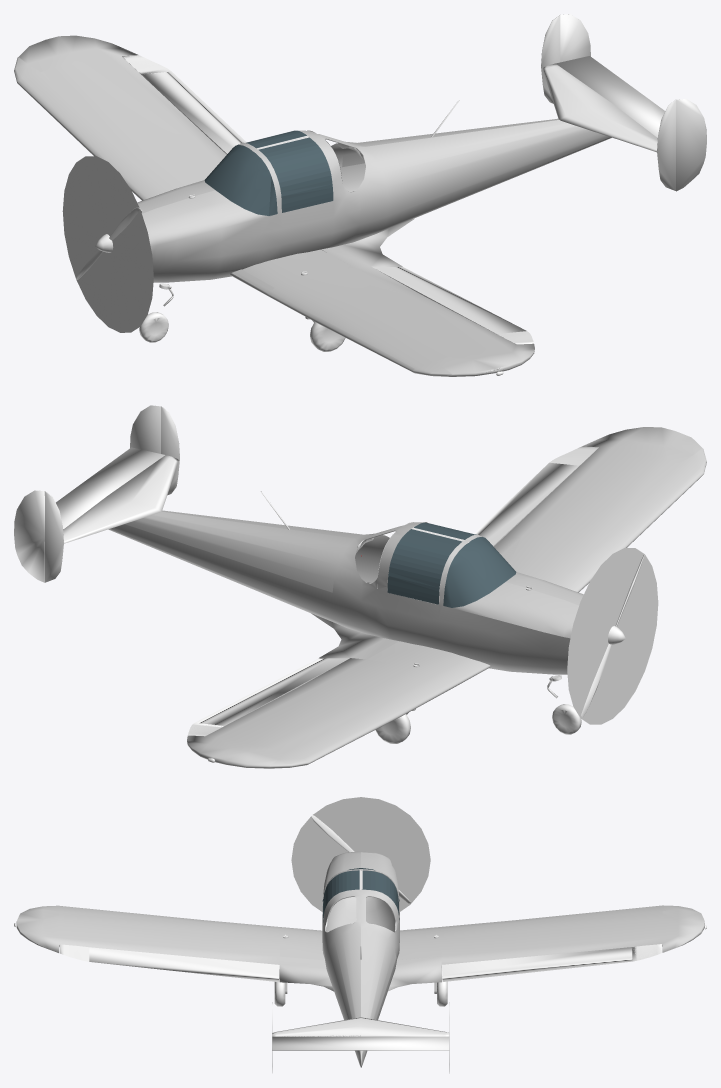
Rendered from ercoupe_ercoupe.glb.
3 views of the same model, one above another, from view 1: azimuth 30°, elevation 25°; view 2: azimuth 150°, elevation 25°; view 3: azimuth 270°, elevation 25° (orthographic). The views are drawn at different scales.
Visible parts, largest first — view 1: airframe, gear; view 2: airframe, gear; view 3: airframe, gear.
Part boxes in pixels (left/top/right/bottom): airframe: left=14, top=14, right=706, bottom=376; gear: left=139, top=283, right=345, bottom=351; airframe: left=14, top=405, right=706, bottom=768; gear: left=375, top=675, right=581, bottom=743; airframe: left=14, top=797, right=706, bottom=1073; gear: left=274, top=976, right=447, bottom=1006.
Size of the model in its own units: 6.46 by 2.13 by 9.15.
